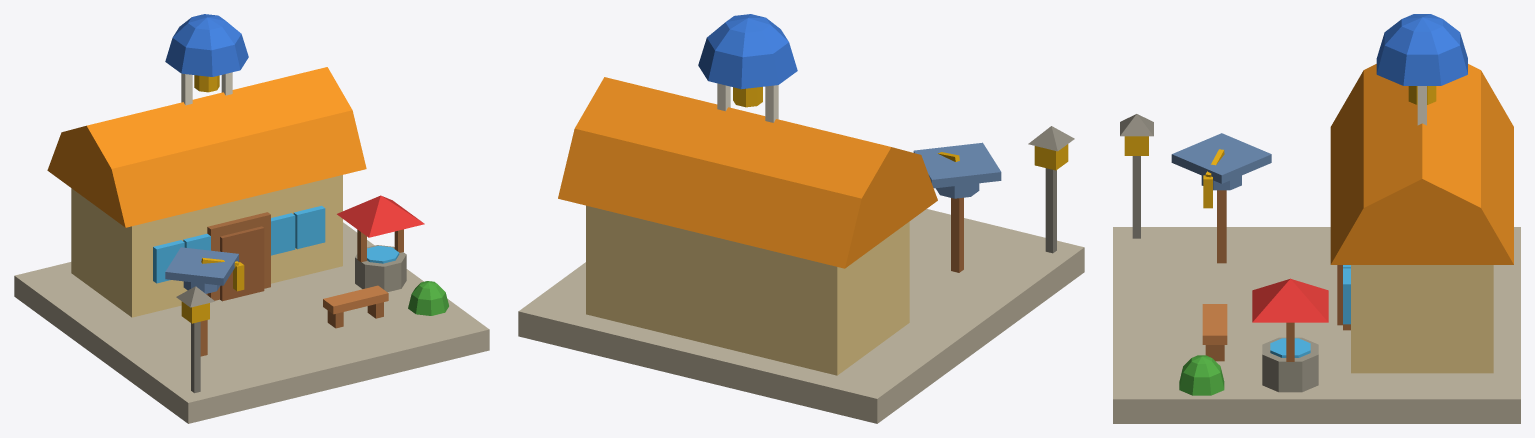
File: university_t1_v3.glb
The picture shows the model from 3 angles, left to right: view 1: azimuth 30°, elevation 25°; view 2: azimuth 150°, elevation 25°; view 3: azimuth 270°, elevation 25°; orthographic projection. The views are drawn at different scales.
Parts seen in each view (by area): view 1: university_t1_v3; view 2: university_t1_v3; view 3: university_t1_v3.
Boxes of the visible parts, <box> form: university_t1_v3: <box>14,14,489,423</box>; university_t1_v3: <box>518,14,1084,423</box>; university_t1_v3: <box>1113,14,1520,423</box>.
Size of the model in its own units: 0.6 by 0.52 by 0.6.
Materials: 1 (1 with a texture image).
